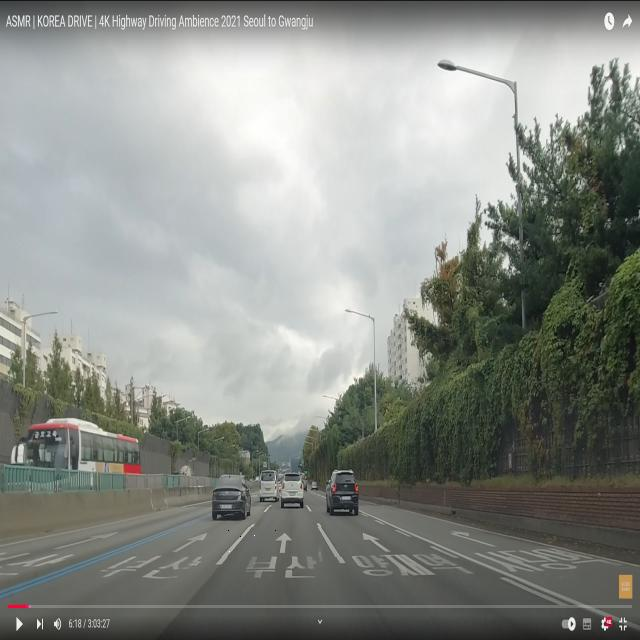forward: (220, 528, 341, 557)
